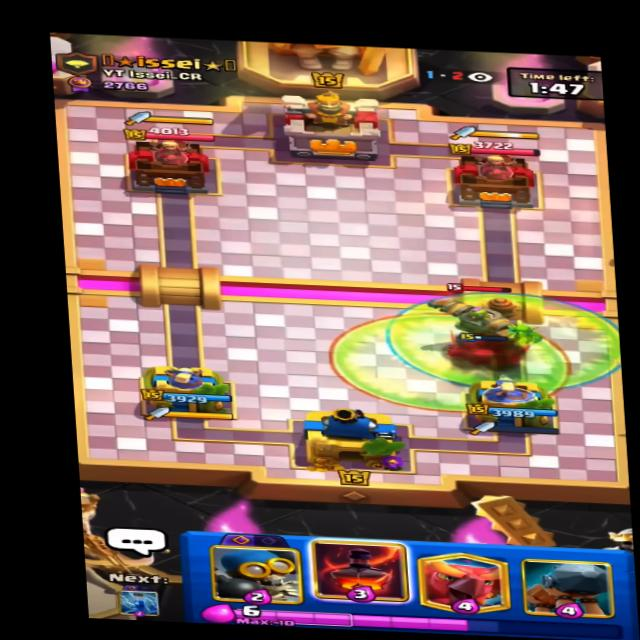goblin-curse: (327, 312, 575, 420)
goblin-machine: (427, 282, 524, 338)
